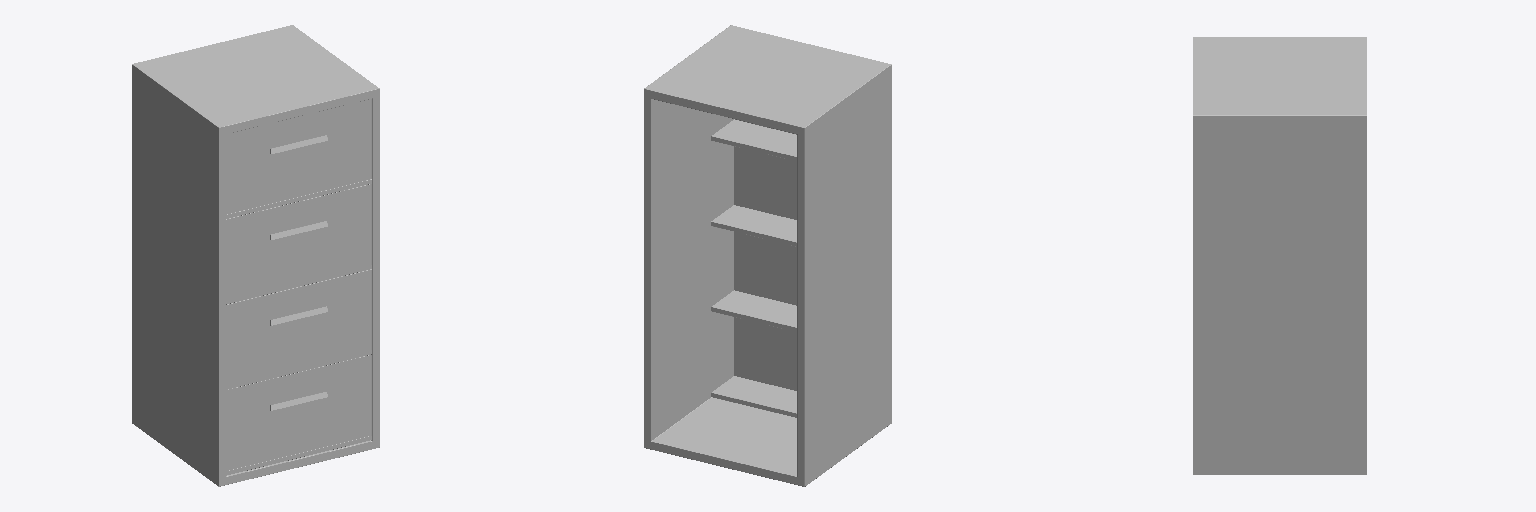
Rendered from Cabinet.obj.
3 views of the same model, side by side, from view 1: azimuth 30°, elevation 25°; view 2: azimuth 150°, elevation 25°; view 3: azimuth 270°, elevation 25° (orthographic).
Parts seen in each view (by area): view 1: CabinetShader; view 2: CabinetShader; view 3: CabinetShader.
Part boxes in pixels (left/top/right/bottom): CabinetShader: left=132, top=25, right=379, bottom=486; CabinetShader: left=644, top=25, right=891, bottom=486; CabinetShader: left=1193, top=37, right=1366, bottom=474.
Size of the model in its own units: 5.87 by 12.51 by 5.52.